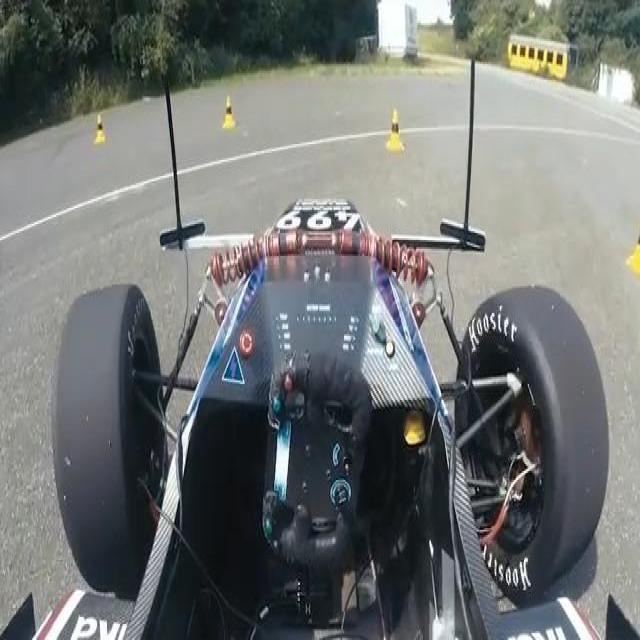yellow_cone: (624, 219, 640, 277), (385, 107, 405, 153), (221, 94, 236, 130), (93, 114, 107, 147)
